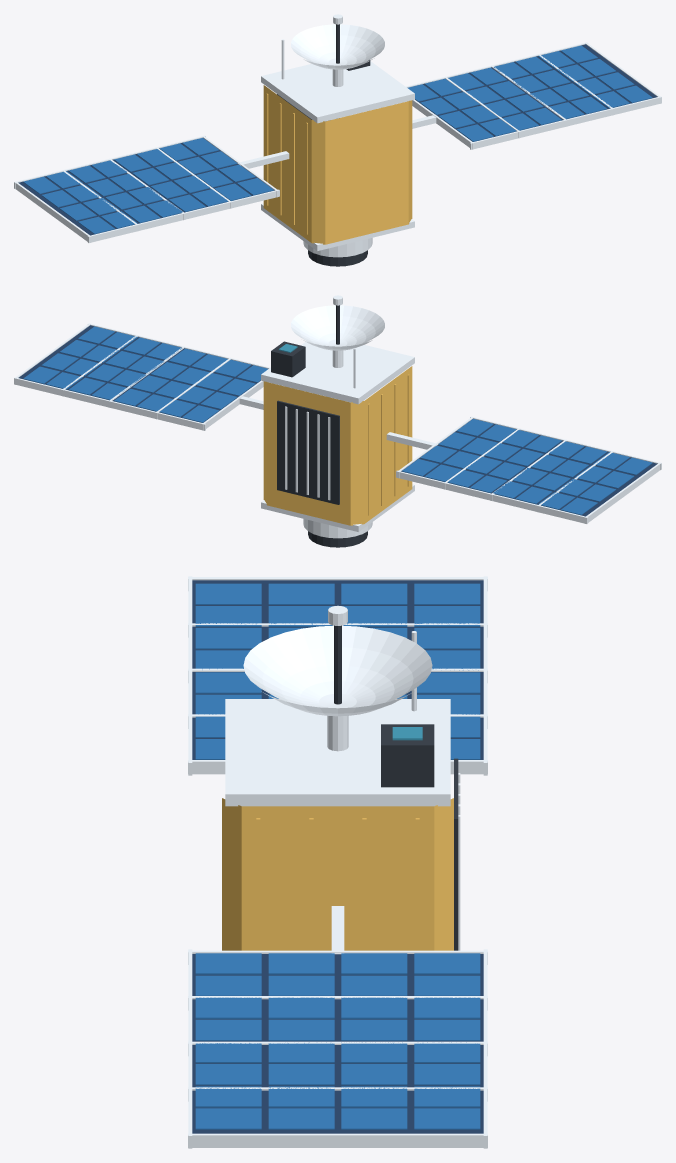
Rendered from earth-observer.glb.
3 views of the same model, one above another, from view 1: azimuth 30°, elevation 25°; view 2: azimuth 150°, elevation 25°; view 3: azimuth 270°, elevation 25° (orthographic). The views are drawn at different scales.
Parts seen in each view (by area): view 1: Generic Earth observation satellite; view 2: Generic Earth observation satellite; view 3: Generic Earth observation satellite.
Part boxes in pixels (bbox=[...]): Generic Earth observation satellite: bbox=[14, 14, 661, 266]; Generic Earth observation satellite: bbox=[14, 295, 661, 547]; Generic Earth observation satellite: bbox=[188, 576, 487, 1148].
Bounding box in the file's own units: 7.98 × 3.18 × 1.81.
